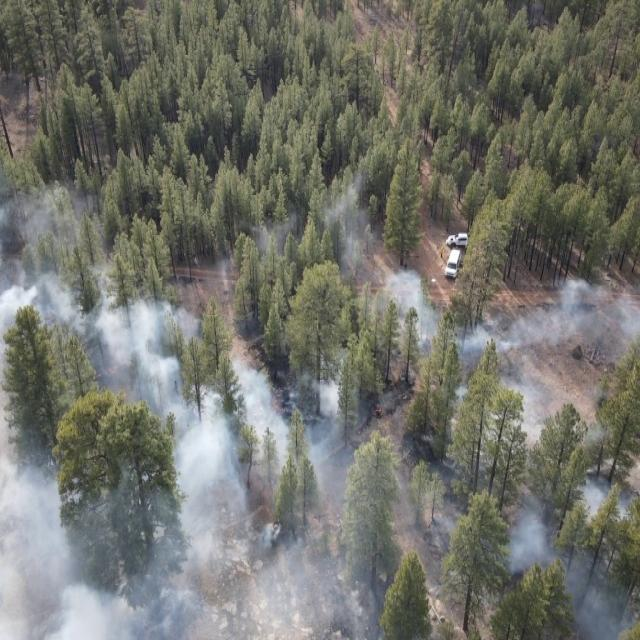fire: (363, 389, 399, 428), (92, 357, 130, 383), (268, 398, 286, 416)
smoke: (0, 171, 214, 640), (215, 307, 383, 640), (433, 373, 640, 639), (369, 260, 640, 374), (247, 185, 395, 273), (383, 443, 436, 572)
